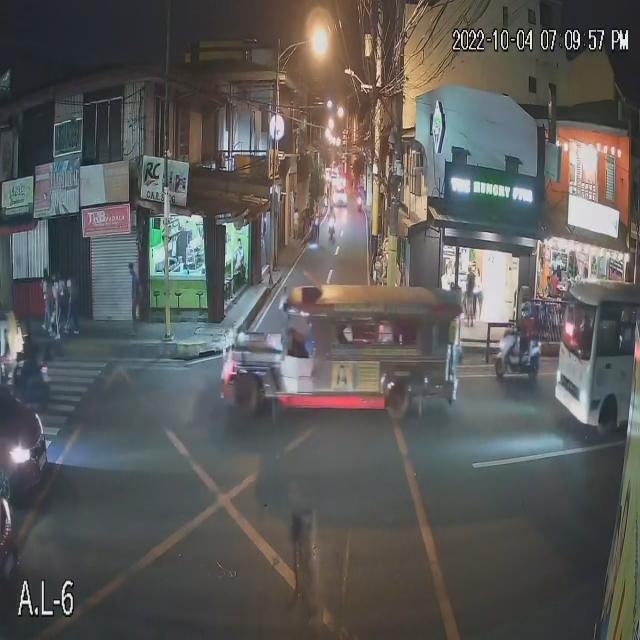helmet: (518, 301, 531, 318)
motorcycle: (492, 336, 542, 380), (327, 219, 336, 240)
rider: (509, 317, 535, 371), (328, 206, 336, 226)
